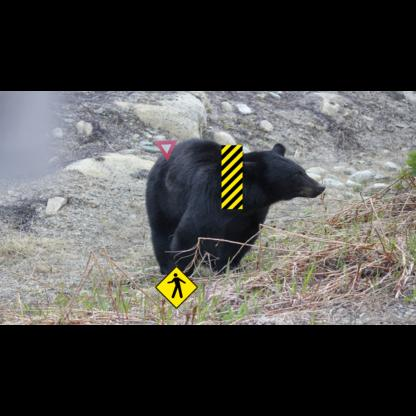A-32a: (155, 266, 198, 309)
O-MP: (222, 145, 242, 209)
